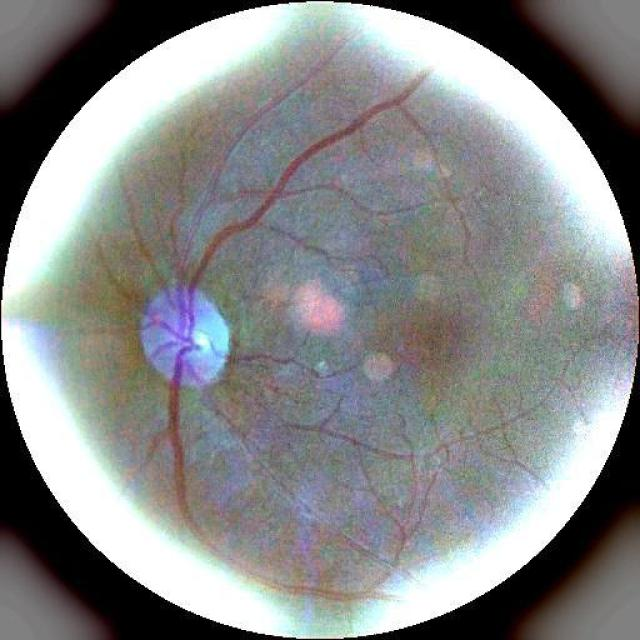Macula: (406, 314, 461, 364)
Nerves: (141, 51, 430, 535), (128, 191, 154, 265), (219, 311, 235, 376)
Optic Disk: (143, 282, 227, 387)
